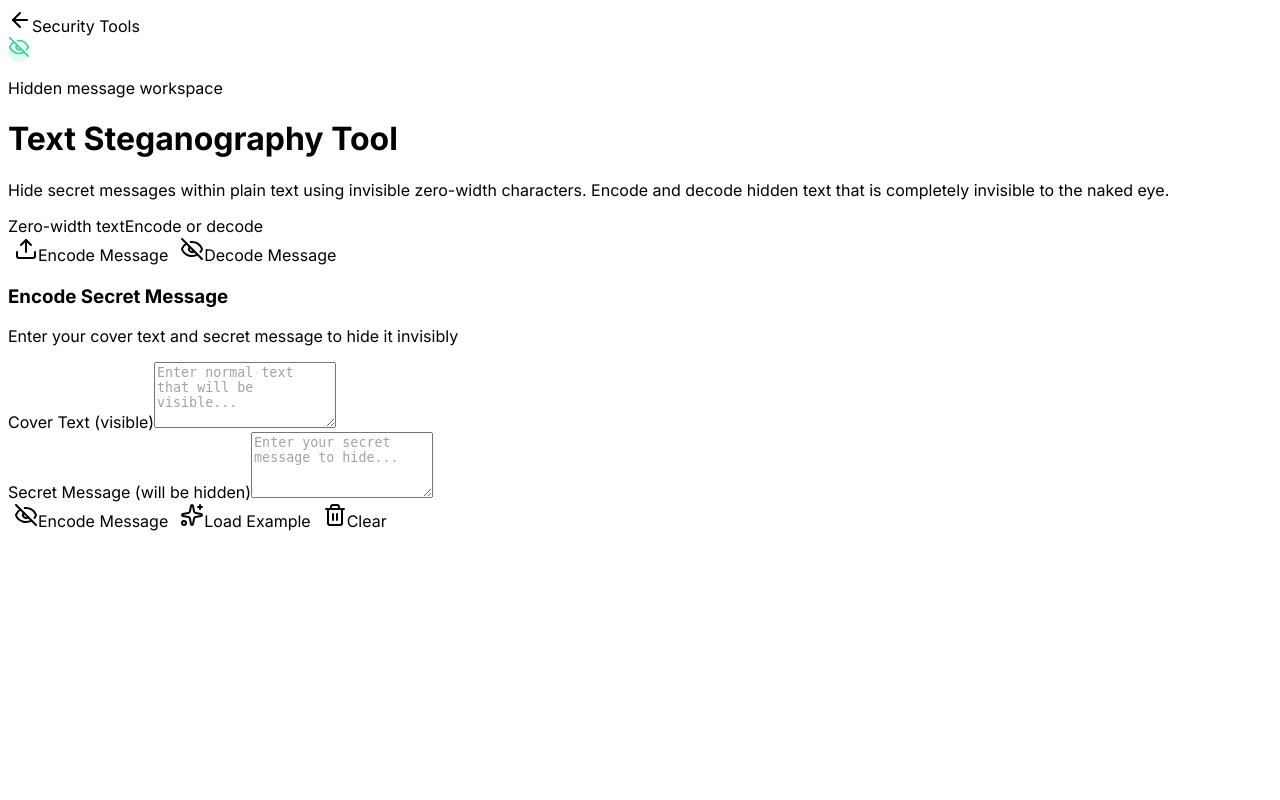
Test: Steganography Page › Encode Functionality › displays encoded result
Type "Cover" into the text box with placeholder "Enter normal text that will be visible..." at (245, 395), box [154,362,336,428]
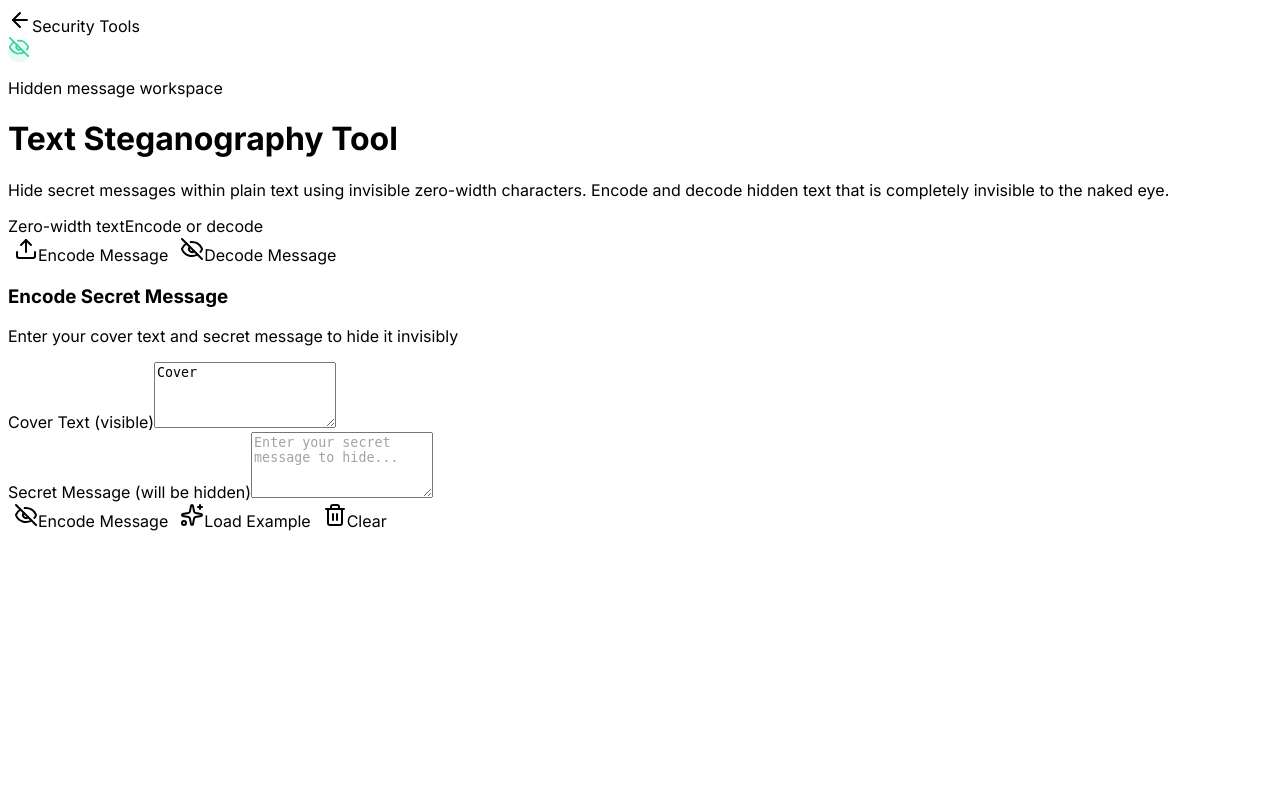
Type "Secret" into the text box with placeholder "Enter your secret message to hide..." at (342, 465), box [251,432,433,498]
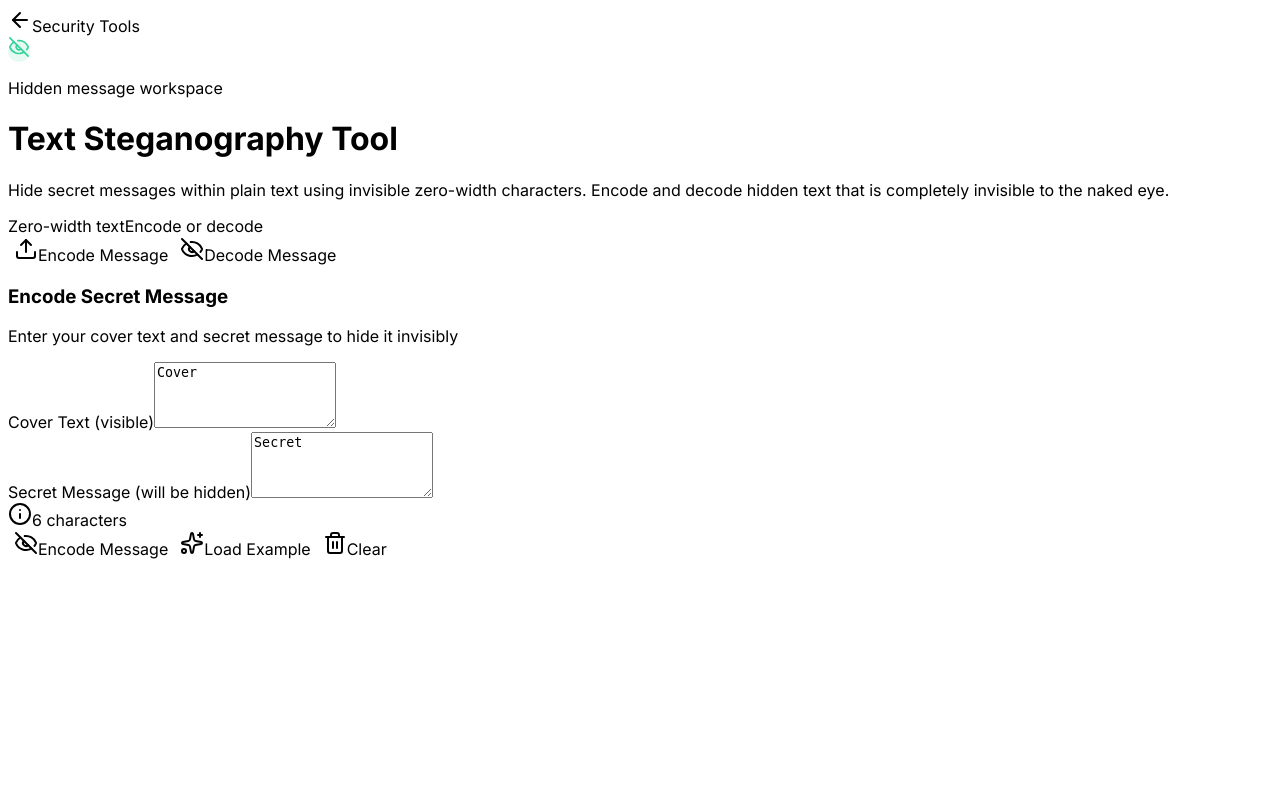
Click the button "Encode Message" below "Secret Message (will be hidden)" at (91, 545), box [8,530,174,560]
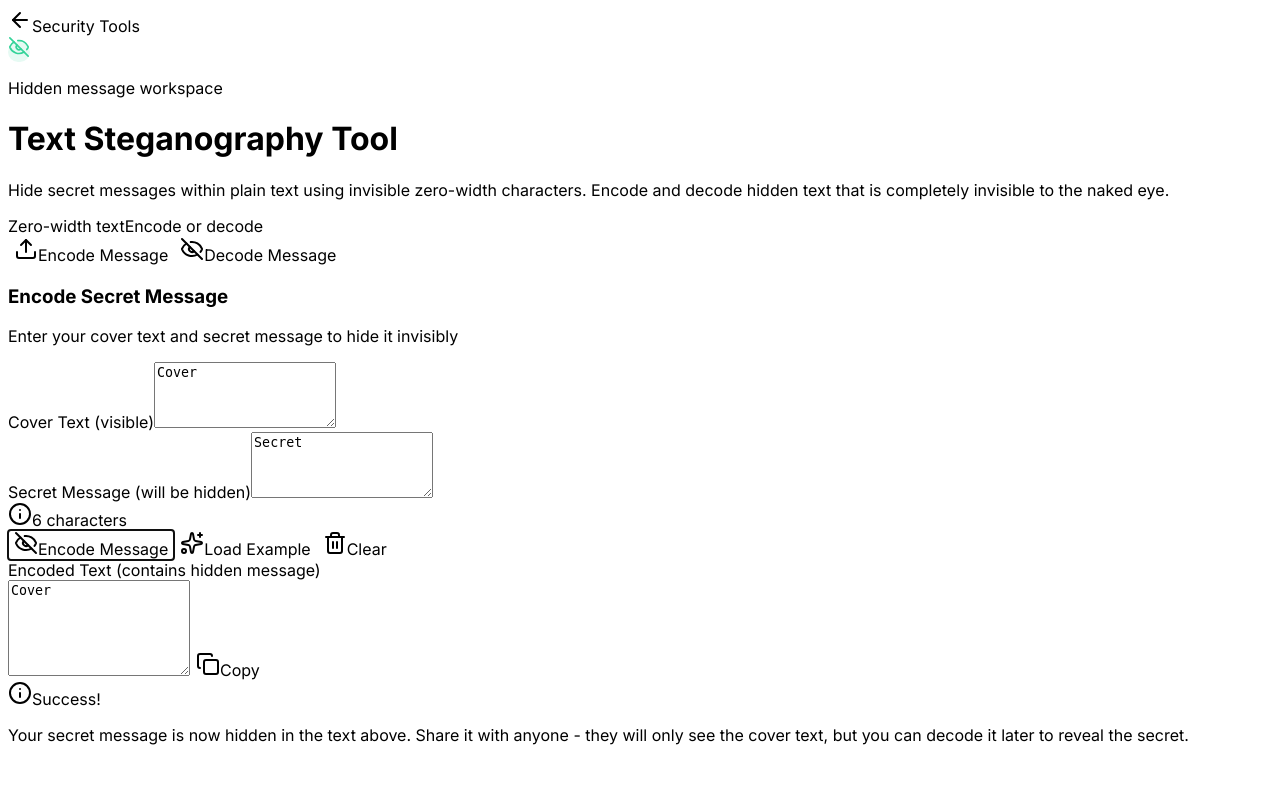
Expected: the text "Encoded Text (contains hidden message)" is shown, [8,560,321,580]
